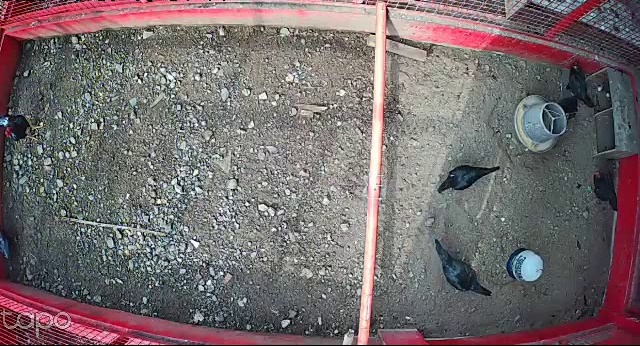Chicken: (431, 238, 495, 299), (436, 162, 502, 197), (558, 61, 596, 109), (586, 171, 620, 211), (557, 94, 582, 122)
Drinker: (507, 247, 544, 284)
Feeder: (513, 93, 566, 155)
Rooster: (0, 109, 52, 146)
